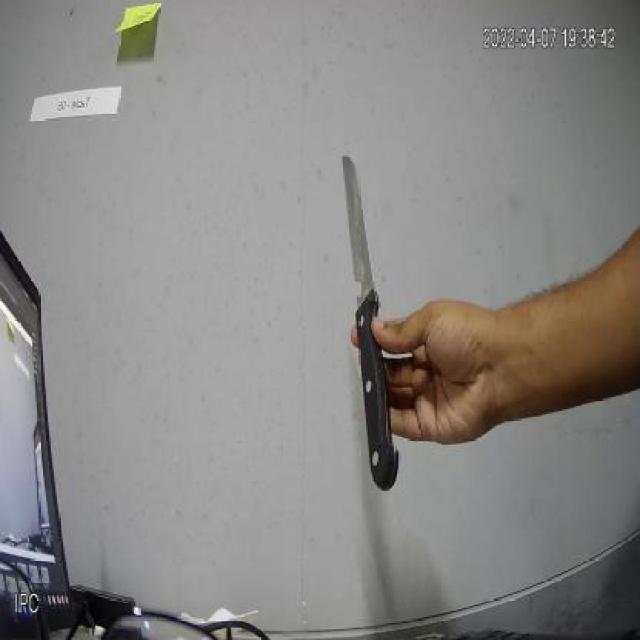Knife: (323, 136, 428, 496)
